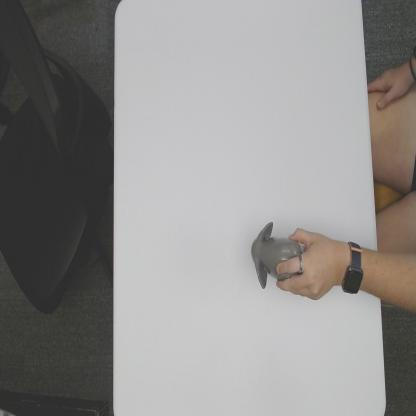Arm: (362, 246, 378, 298)
Elephant: (251, 220, 302, 292)
Hand: (276, 225, 337, 303)
